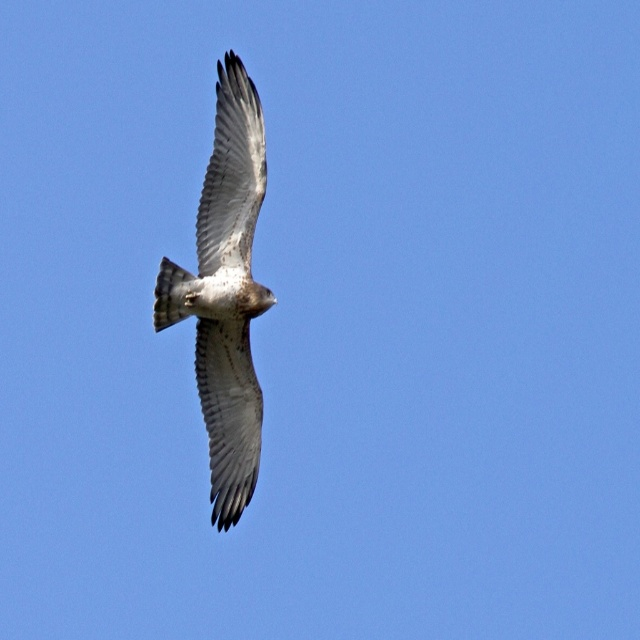Eagle: (149, 46, 280, 533)
